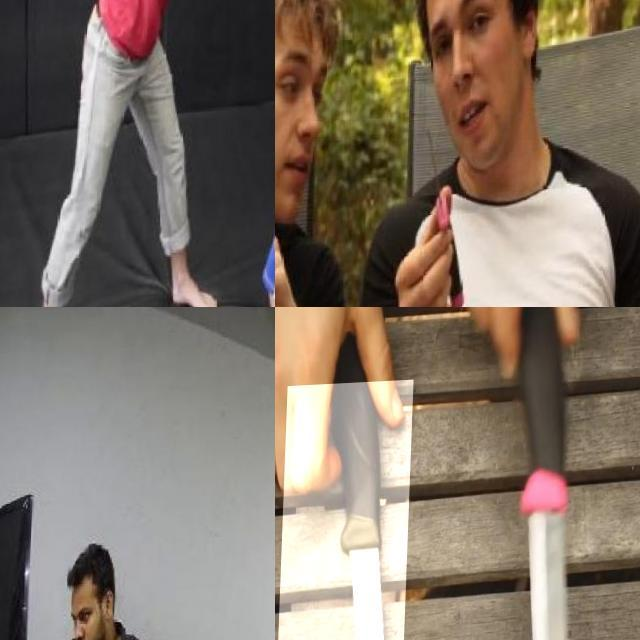-: (475, 307, 592, 640), (276, 381, 414, 640), (412, 114, 478, 307), (275, 192, 310, 307), (106, 0, 178, 47)
